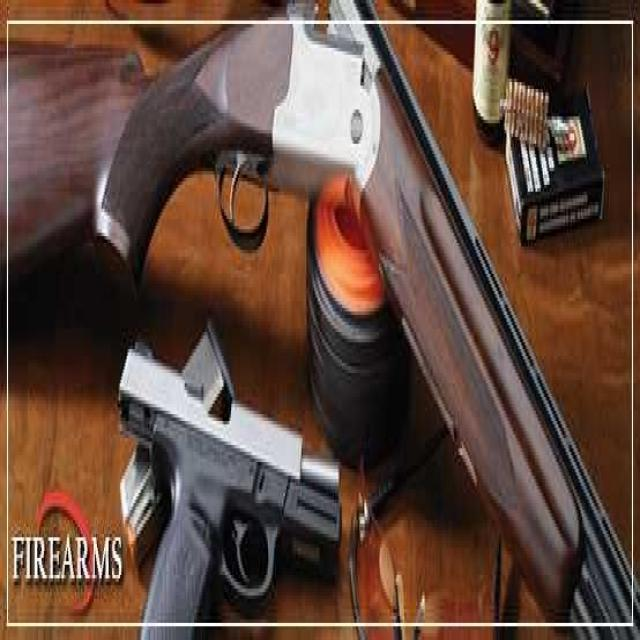heavyweapon: (10, 1, 603, 600)
